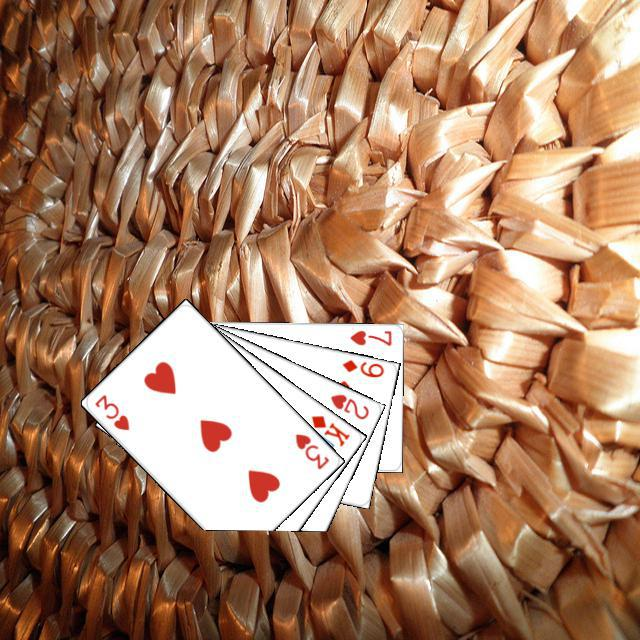2h: (325, 389, 370, 421)
3h: (89, 389, 131, 432), (290, 429, 331, 471)
7h: (345, 326, 393, 348)
9d: (337, 355, 386, 379)
Kd: (306, 410, 351, 448)
